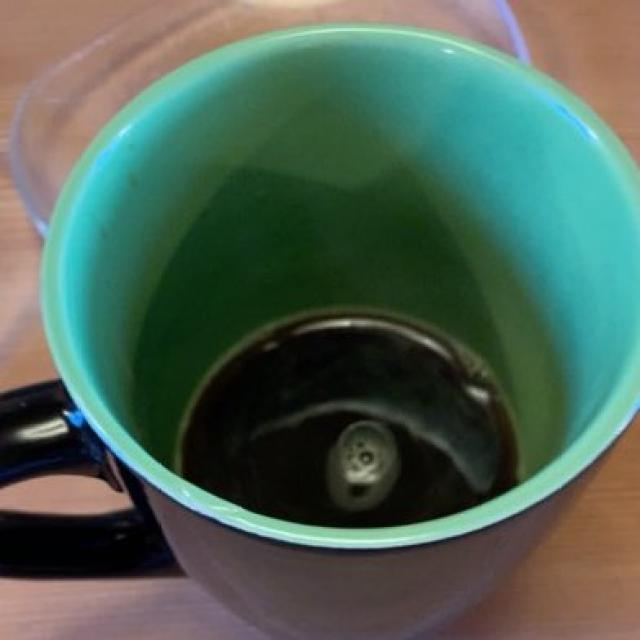coffee: (164, 314, 525, 514)
